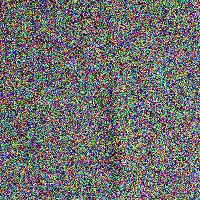inclusion: (93, 62, 126, 195), (95, 13, 117, 62)
